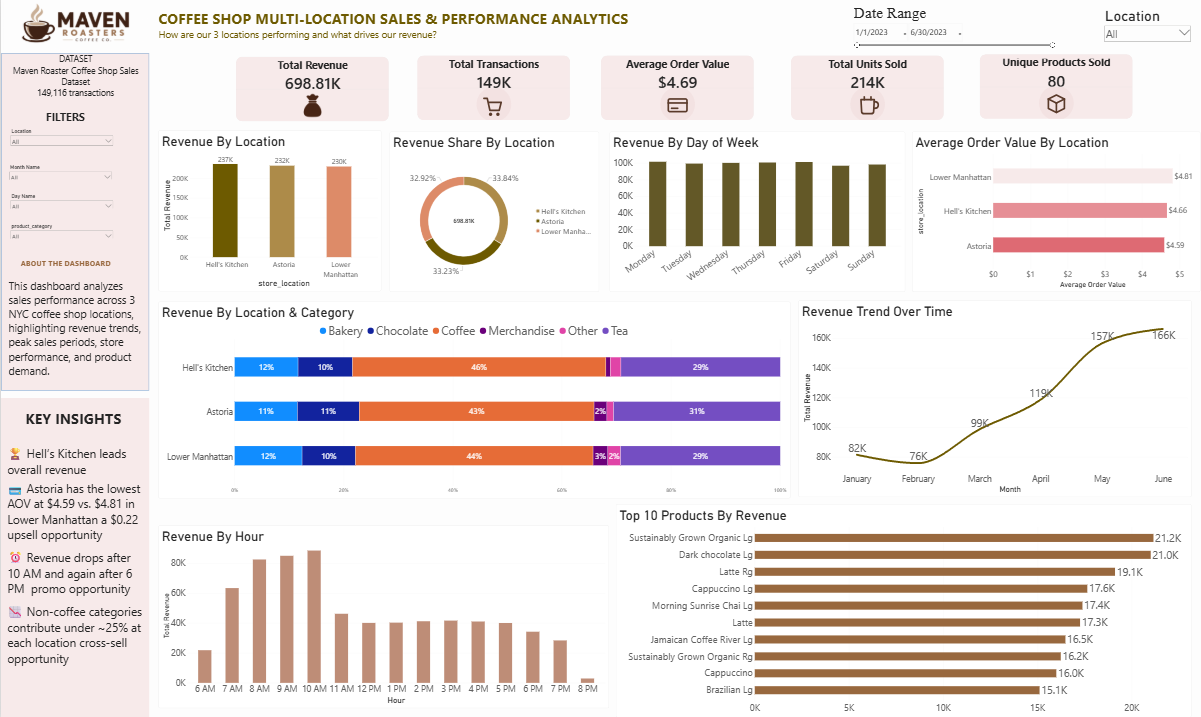

The dashboard page shown, as its layout file describes it:
{"tool":"powerbi","page":{"name":"Page 1","canvas":[6000,3600],"ordinal":0},"visuals":[{"type":"image","box":[11.8,0,723.5,276.5],"z":0},{"type":"textbox","box":[788.2,47.1,2382.4,188.2],"z":1000},{"type":"textbox","box":[788.2,147.1,1400,88.2],"z":2000},{"type":"slicer","fields":{"Values":["Transactions.store_location"]},"box":[5511.8,47.1,441.2,229.4],"z":3000},{"type":"slicer","fields":{"Values":["Transactions.transaction_date"]},"box":[4258.8,29.4,1017.6,247.1],"z":4000},{"type":"shape","box":[0,276.5,741.2,1688.2],"z":5000},{"type":"textbox","box":[41.2,276.5,658.8,317.6],"z":6000},{"type":"textbox","box":[111.8,558.8,418.6,95.3],"z":7000},{"type":"slicer","fields":{"Values":["Transactions.store_location"]},"box":[41.2,652.9,521.7,120.2],"z":8000},{"type":"slicer","fields":{"Values":["Transactions.Month Name"]},"box":[35.3,829.4,522.5,75.1],"z":9000},{"type":"slicer","fields":{"Values":["Transactions.Day Name"]},"box":[41.2,976.5,521.7,76.9],"z":10000},{"type":"slicer","fields":{"Values":["Transactions.product_category"]},"box":[41.2,1123.5,521.7,76.9],"z":11000},{"type":"textbox","box":[35.3,1400,670.6,523.5],"z":12000},{"type":"textbox","box":[88.2,1300,473.4,98.2],"z":13000},{"type":"textbox","box":[9,1473,600,527],"z":14000},{"type":"textbox","box":[0,2000,741.2,1600],"z":15000},{"type":"textbox","box":[64.7,2047.1,600,134.5],"z":16000},{"type":"textbox","box":[29.4,2235.3,694.1,1364.7],"z":17000},{"type":"cardVisual","fields":{"Data":["Transactions.Total Revenue"]},"box":[1176.5,294.1,764.7,323.5],"z":18000},{"type":"textbox","box":[786,445,324,1066],"z":19000},{"type":"textbox","box":[893.1,503.4,324.1,96.6],"z":20000},{"type":"columnChart","title":"Revenue By Location","fields":{"Category":["Transactions.store_location"],"Y":["Transactions.Total Revenue"]},"box":[788.2,664.7,1113.8,803.4],"z":21000},{"type":"cardVisual","fields":{"Data":["Transactions.Total Transactions"]},"box":[2082.4,288.2,764,323],"z":22000},{"type":"cardVisual","fields":{"Data":["Transactions.Average Order Value"]},"box":[3000,288.2,764,323],"z":23000},{"type":"cardVisual","fields":{"Data":["Transactions.Total Units Sold"]},"box":[3947.1,288.2,764,323],"z":24000},{"type":"cardVisual","fields":{"Data":["Transactions.Unique Products Sold"]},"box":[4894.1,282.4,764,323],"z":25000},{"type":"donutChart","title":"Revenue Share By Location","fields":{"Category":["Transactions.store_location"],"Y":["Transactions.Total Revenue"]},"box":[1941.2,670.6,1046.2,800],"z":26000},{"type":"lineChart","title":"Revenue Trend Over Time","fields":{"Category":["Transactions.transaction_date.Variation.Date Hierarchy.Month"],"Y":["Transactions.Total Revenue"]},"box":[3988.2,1511.8,1964.7,982.4],"z":27000},{"type":"lineStackedColumnComboChart","title":"Revenue By Hour","fields":{"Category":["Transactions.Hour"],"Y":["Transactions.Total Revenue"]},"box":[788.2,2635.3,2252.2,913],"z":29000},{"type":"barChart","title":"Average Order Value By Location","fields":{"Y":["Transactions.Average Order Value"],"Category":["Transactions.store_location"]},"box":[4558.8,670.6,1441.2,800],"z":30000},{"type":"barChart","title":"Top 10 Products By Revenue","fields":{"Category":["Transactions.product_detail"],"Y":["Transactions.Total Revenue"]},"box":[3076.5,2529.4,2876.5,1070.6],"z":31000},{"type":"hundredPercentStackedBarChart","title":"Revenue By Location & Category","fields":{"Category":["Transactions.store_location"],"Y":["Transactions.Total Revenue"],"Series":["Transactions.Category Group"]},"box":[788.2,1517.6,3158.8,982.4],"z":32000},{"type":"clusteredColumnChart","title":"Revenue By Day of Week","fields":{"Category":["Transactions.Day Name"],"Y":["Transactions.Total Revenue"]},"box":[3041.2,670.6,1476.5,800],"z":32001}]}

Visuals, with their boxes in screenshot pixels (x1, y1, x2, y2), scaled from the page's 6000x3600 canvas onto the 1201x717 screenshot:
image: <box>2,0,147,55</box>
textbox: <box>158,9,635,47</box>
textbox: <box>158,29,438,47</box>
slicer - Transactions.store_location: <box>1103,9,1192,55</box>
slicer - Transactions.transaction_date: <box>852,6,1056,55</box>
shape: <box>0,55,148,391</box>
textbox: <box>8,55,140,118</box>
textbox: <box>22,111,106,130</box>
slicer - Transactions.store_location: <box>8,130,113,154</box>
slicer - Transactions.Month Name: <box>7,165,112,180</box>
slicer - Transactions.Day Name: <box>8,194,113,210</box>
slicer - Transactions.product_category: <box>8,224,113,239</box>
textbox: <box>7,279,141,383</box>
textbox: <box>18,259,112,278</box>
textbox: <box>2,293,122,398</box>
textbox: <box>0,398,148,716</box>
textbox: <box>13,408,133,435</box>
textbox: <box>6,445,145,716</box>
cardVisual - Transactions.Total Revenue: <box>235,59,389,123</box>
textbox: <box>157,89,222,301</box>
textbox: <box>179,100,244,120</box>
"Revenue By Location" columnChart: <box>158,132,381,292</box>
cardVisual - Transactions.Total Transactions: <box>417,57,570,122</box>
cardVisual - Transactions.Average Order Value: <box>600,57,753,122</box>
cardVisual - Transactions.Total Units Sold: <box>790,57,943,122</box>
cardVisual - Transactions.Unique Products Sold: <box>980,56,1133,121</box>
"Revenue Share By Location" donutChart: <box>389,134,598,293</box>
"Revenue Trend Over Time" lineChart: <box>798,301,1192,497</box>
"Revenue By Hour" lineStackedColumnComboChart: <box>158,525,609,707</box>
"Average Order Value By Location" barChart: <box>913,134,1200,293</box>
"Top 10 Products By Revenue" barChart: <box>616,504,1192,716</box>
"Revenue By Location & Category" hundredPercentStackedBarChart: <box>158,302,790,498</box>
"Revenue By Day of Week" clusteredColumnChart: <box>609,134,904,293</box>
